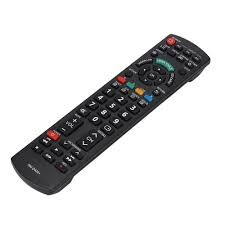remote control: (4, 10, 212, 201)
